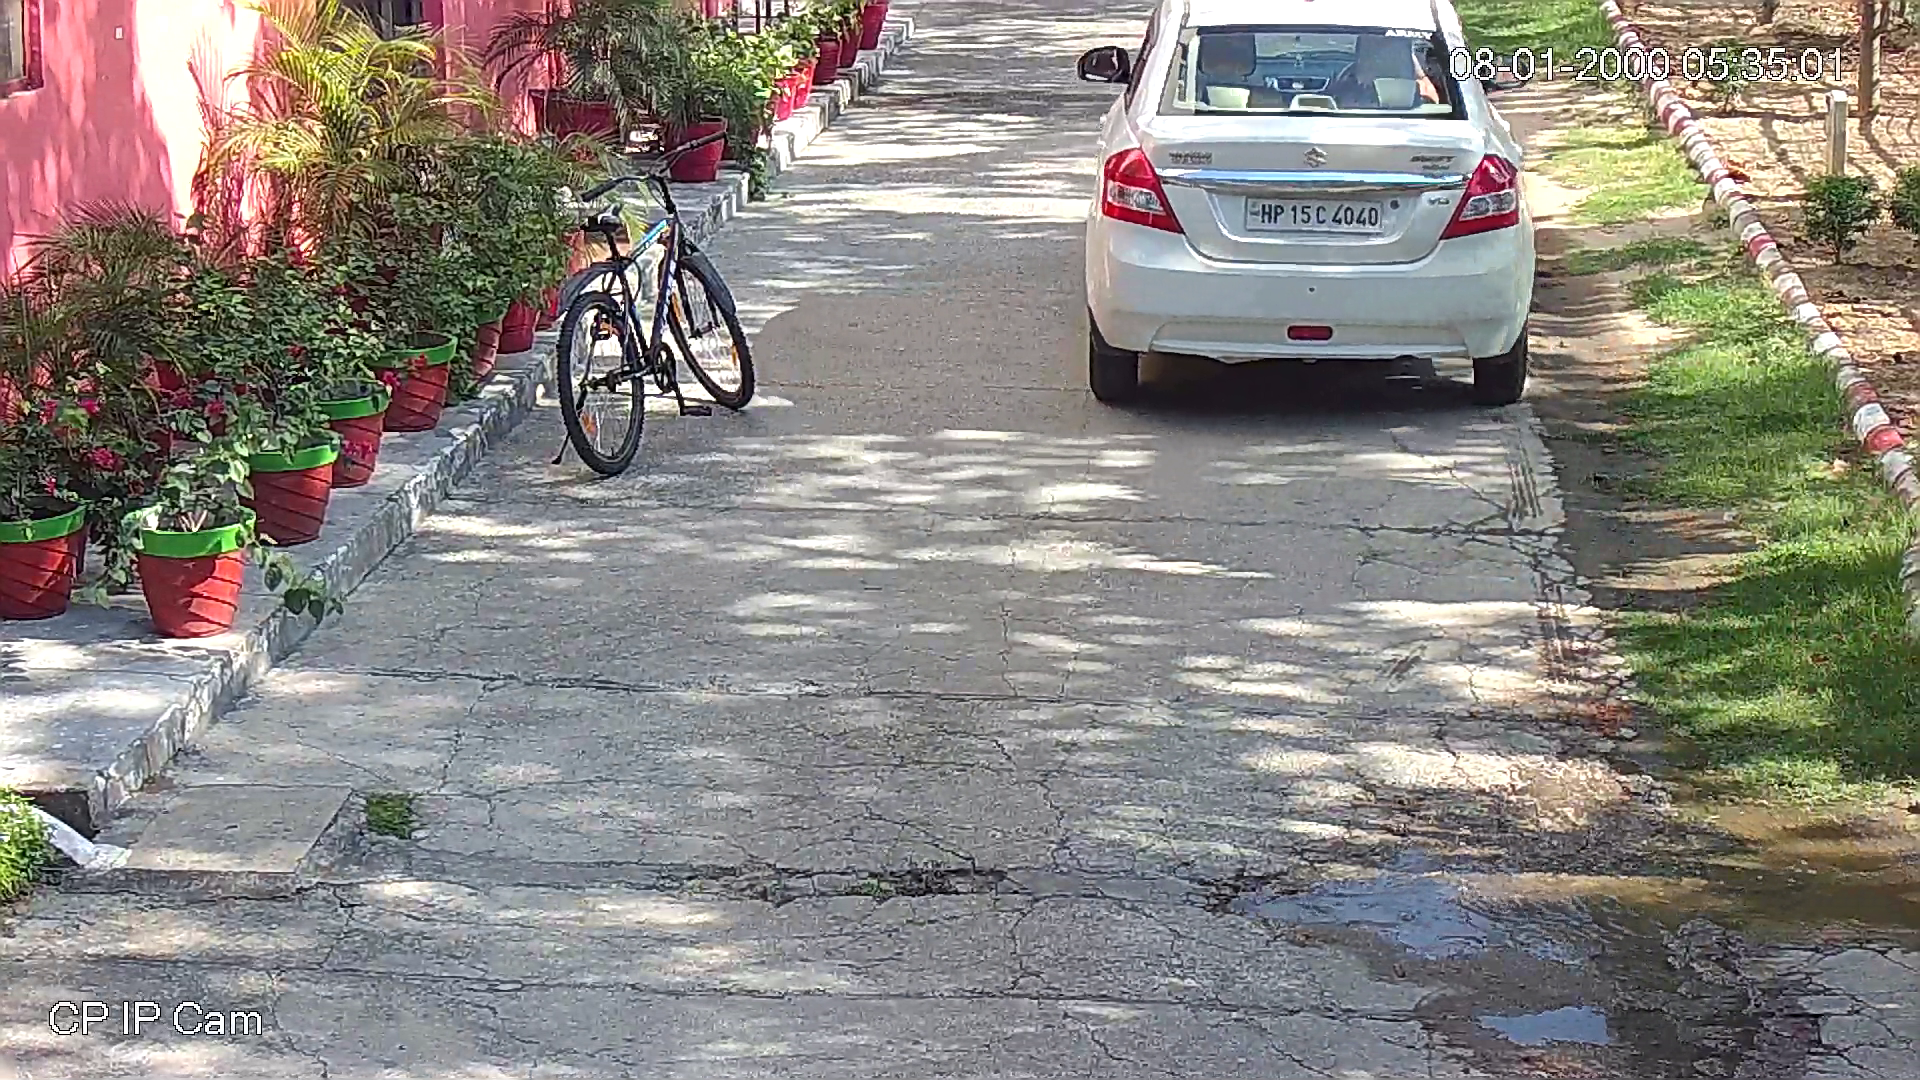plate: (1242, 193, 1390, 235)
